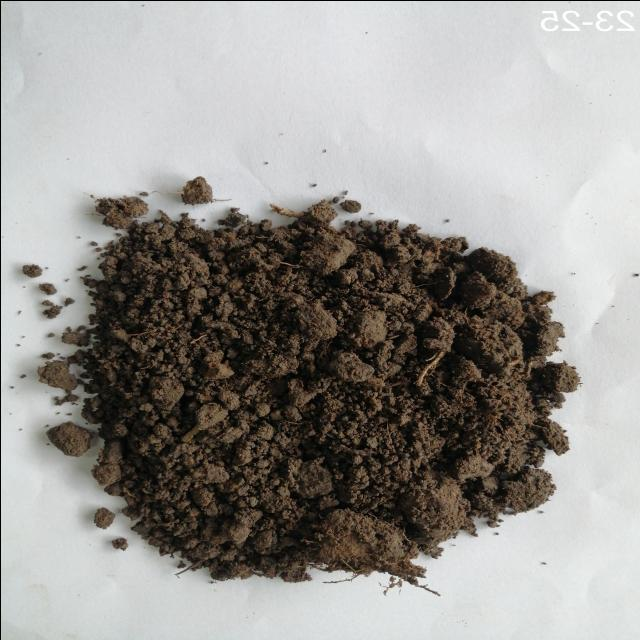soil: (131, 254, 497, 520)
